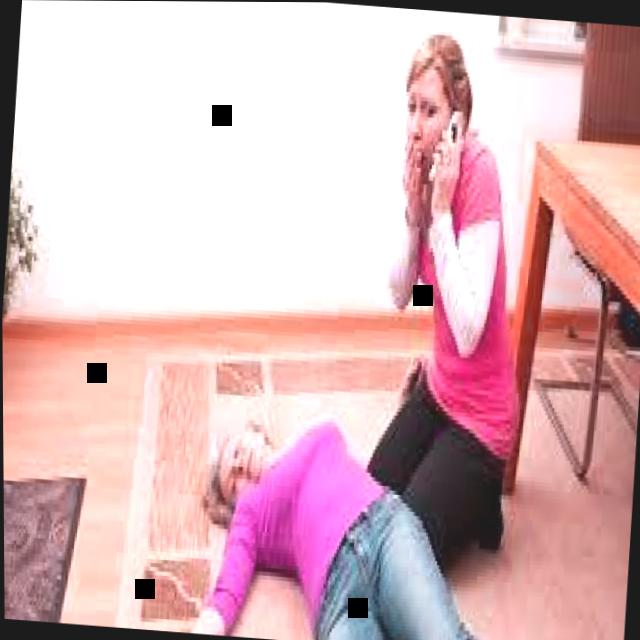Fall-Detected: (139, 388, 607, 640)
